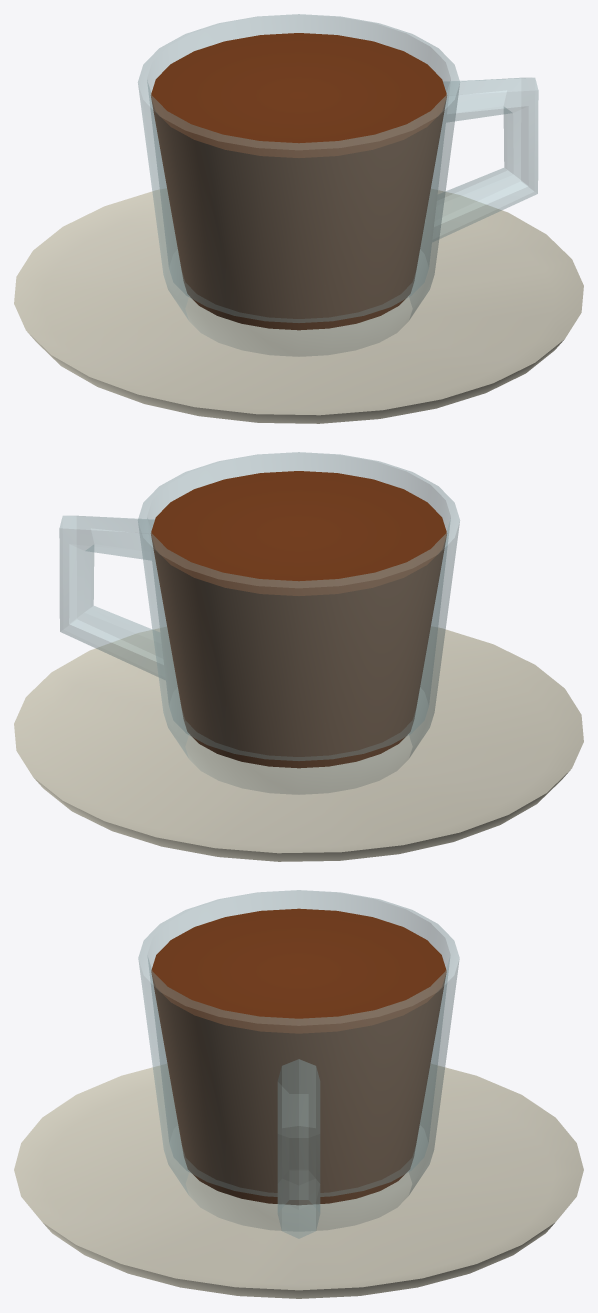
Rendered from food-milk-tea-s0.glb.
3 views of the same model, one above another, from view 1: azimuth 30°, elevation 25°; view 2: azimuth 150°, elevation 25°; view 3: azimuth 270°, elevation 25° (orthographic).
Visible parts, largest first — view 1: saucer__ceramic, mug__glass, liquid__sauce; view 2: saucer__ceramic, mug__glass, liquid__sauce; view 3: saucer__ceramic, liquid__sauce, mug__glass.
Boxes of the visible parts, x1,y1,x2,y2 form: saucer__ceramic: (14,188,583,423); mug__glass: (138,14,538,356); liquid__sauce: (151,33,446,330); saucer__ceramic: (14,626,583,861); mug__glass: (59,452,459,794); liquid__sauce: (151,471,446,768); saucer__ceramic: (14,1064,583,1298); liquid__sauce: (151,908,446,1204); mug__glass: (138,890,459,1238).
Size of the model in its own units: 0.156 by 0.077 by 0.156.
